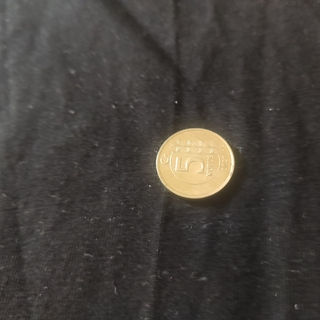5KURUS: (153, 126, 236, 201)
